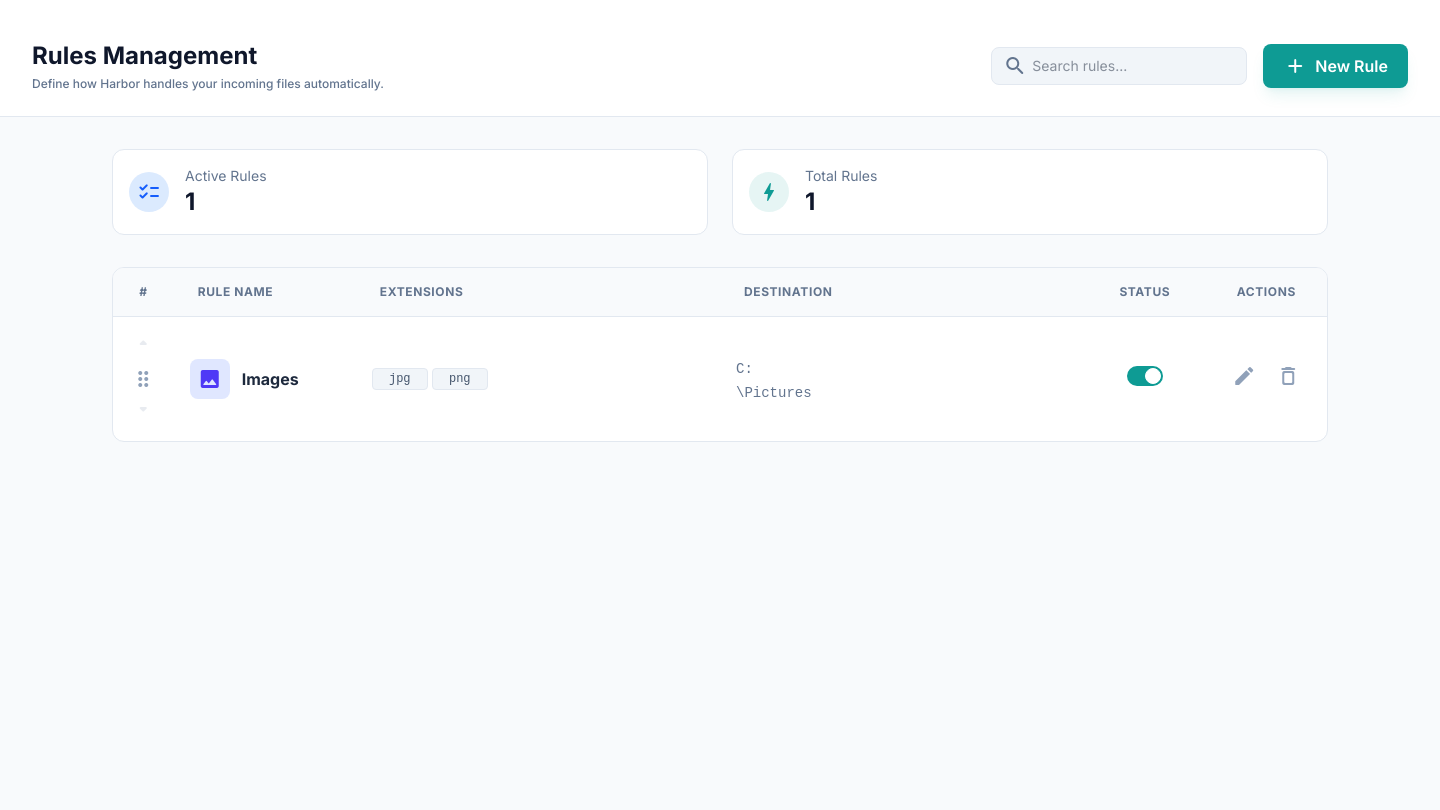
Test: RulesPage › opens delete confirmation when delete button is clicked
This screenshot has width=1440, height=810.
Click the button named "Delete Images". click: {"x": 1288, "y": 379}
box: 1270,358 -> 1306,400
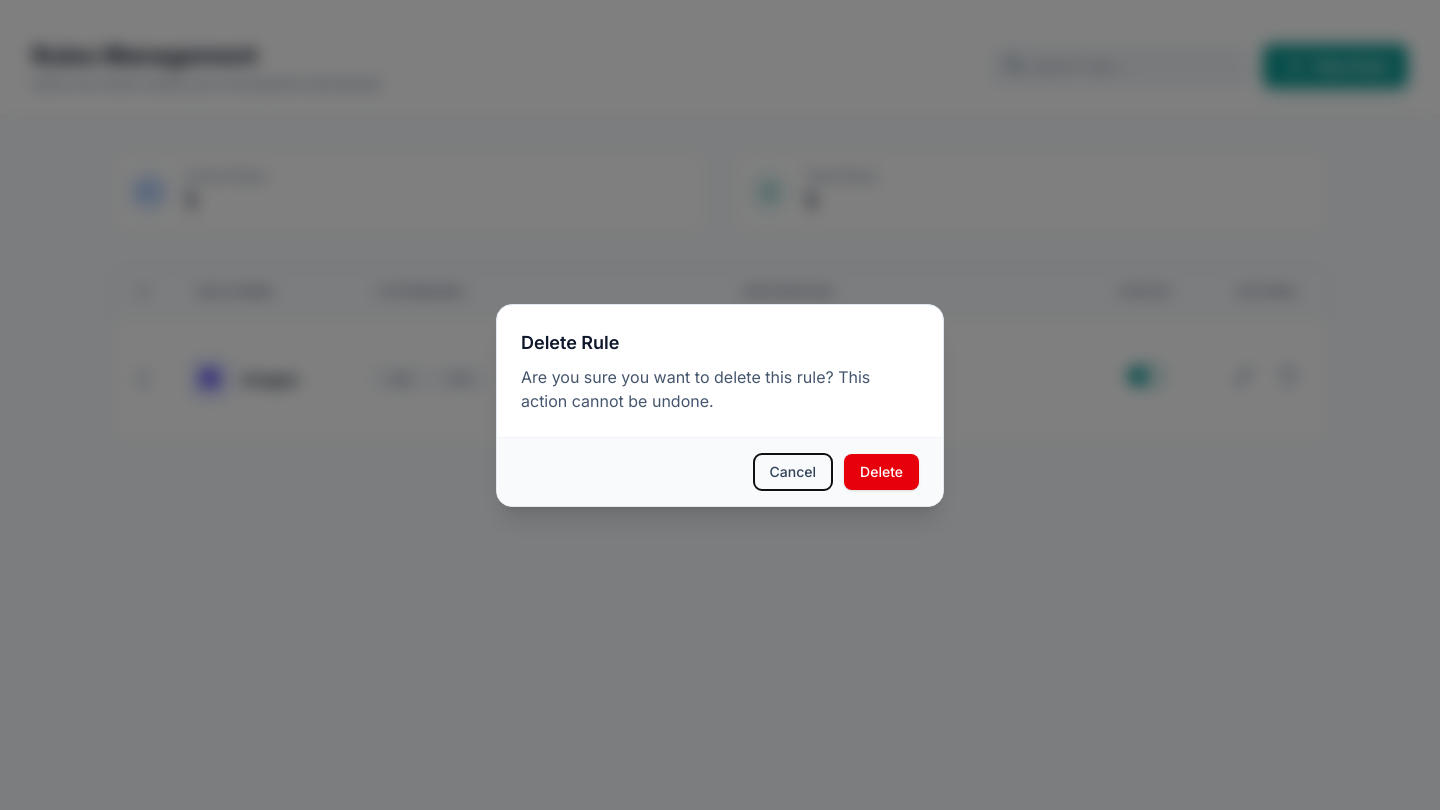
Now the heading "Delete Rule" is shown, box 521,332 -> 620,352
